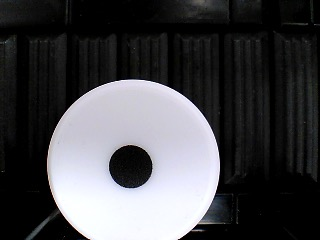BOHO: (46, 79, 221, 240)
